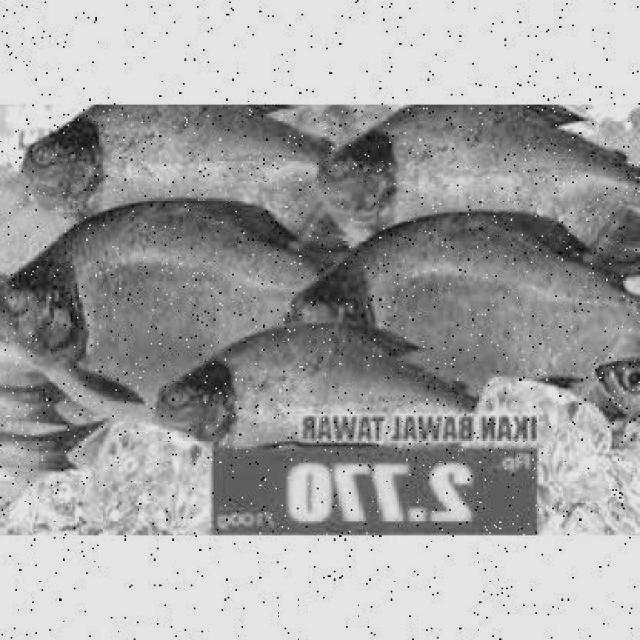ikan-pacu: (0, 204, 316, 418), (305, 215, 640, 390), (311, 104, 640, 264), (24, 103, 333, 229), (157, 322, 474, 444)
